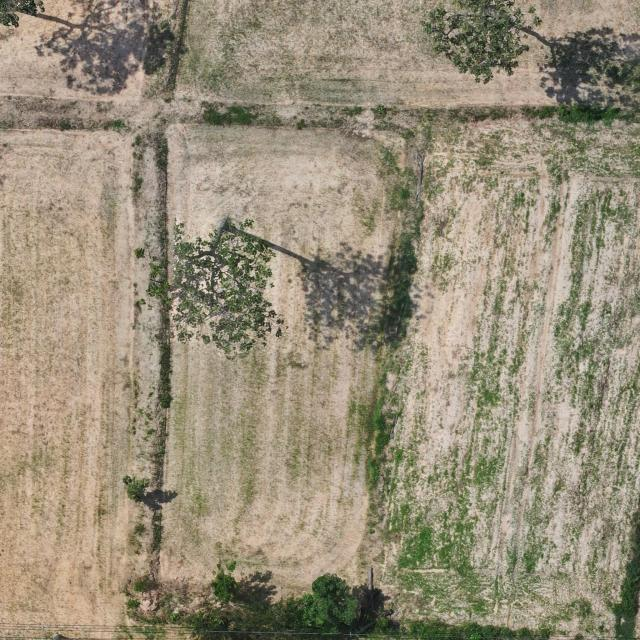Tree: (143, 214, 284, 365), (418, 0, 542, 86), (298, 572, 364, 633), (209, 557, 244, 611), (0, 0, 49, 29), (121, 474, 152, 504)
